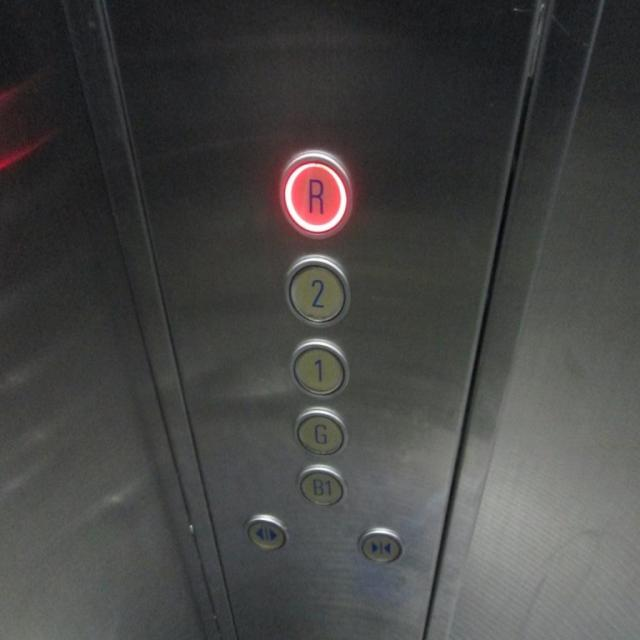1: (288, 334, 351, 404)
2: (281, 254, 350, 328)
B1: (296, 459, 348, 511)
G: (291, 404, 348, 458)
R: (278, 148, 353, 242)
close: (357, 526, 405, 567)
open: (243, 510, 288, 555)
